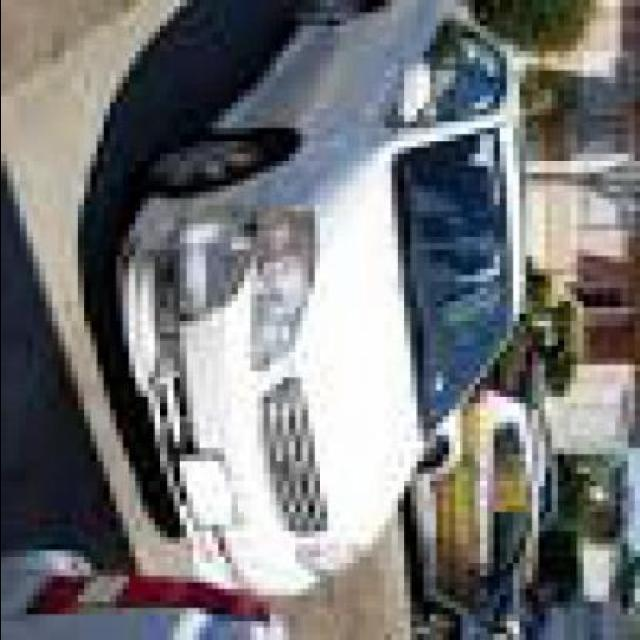front-bumper-dent: (116, 205, 263, 506)
